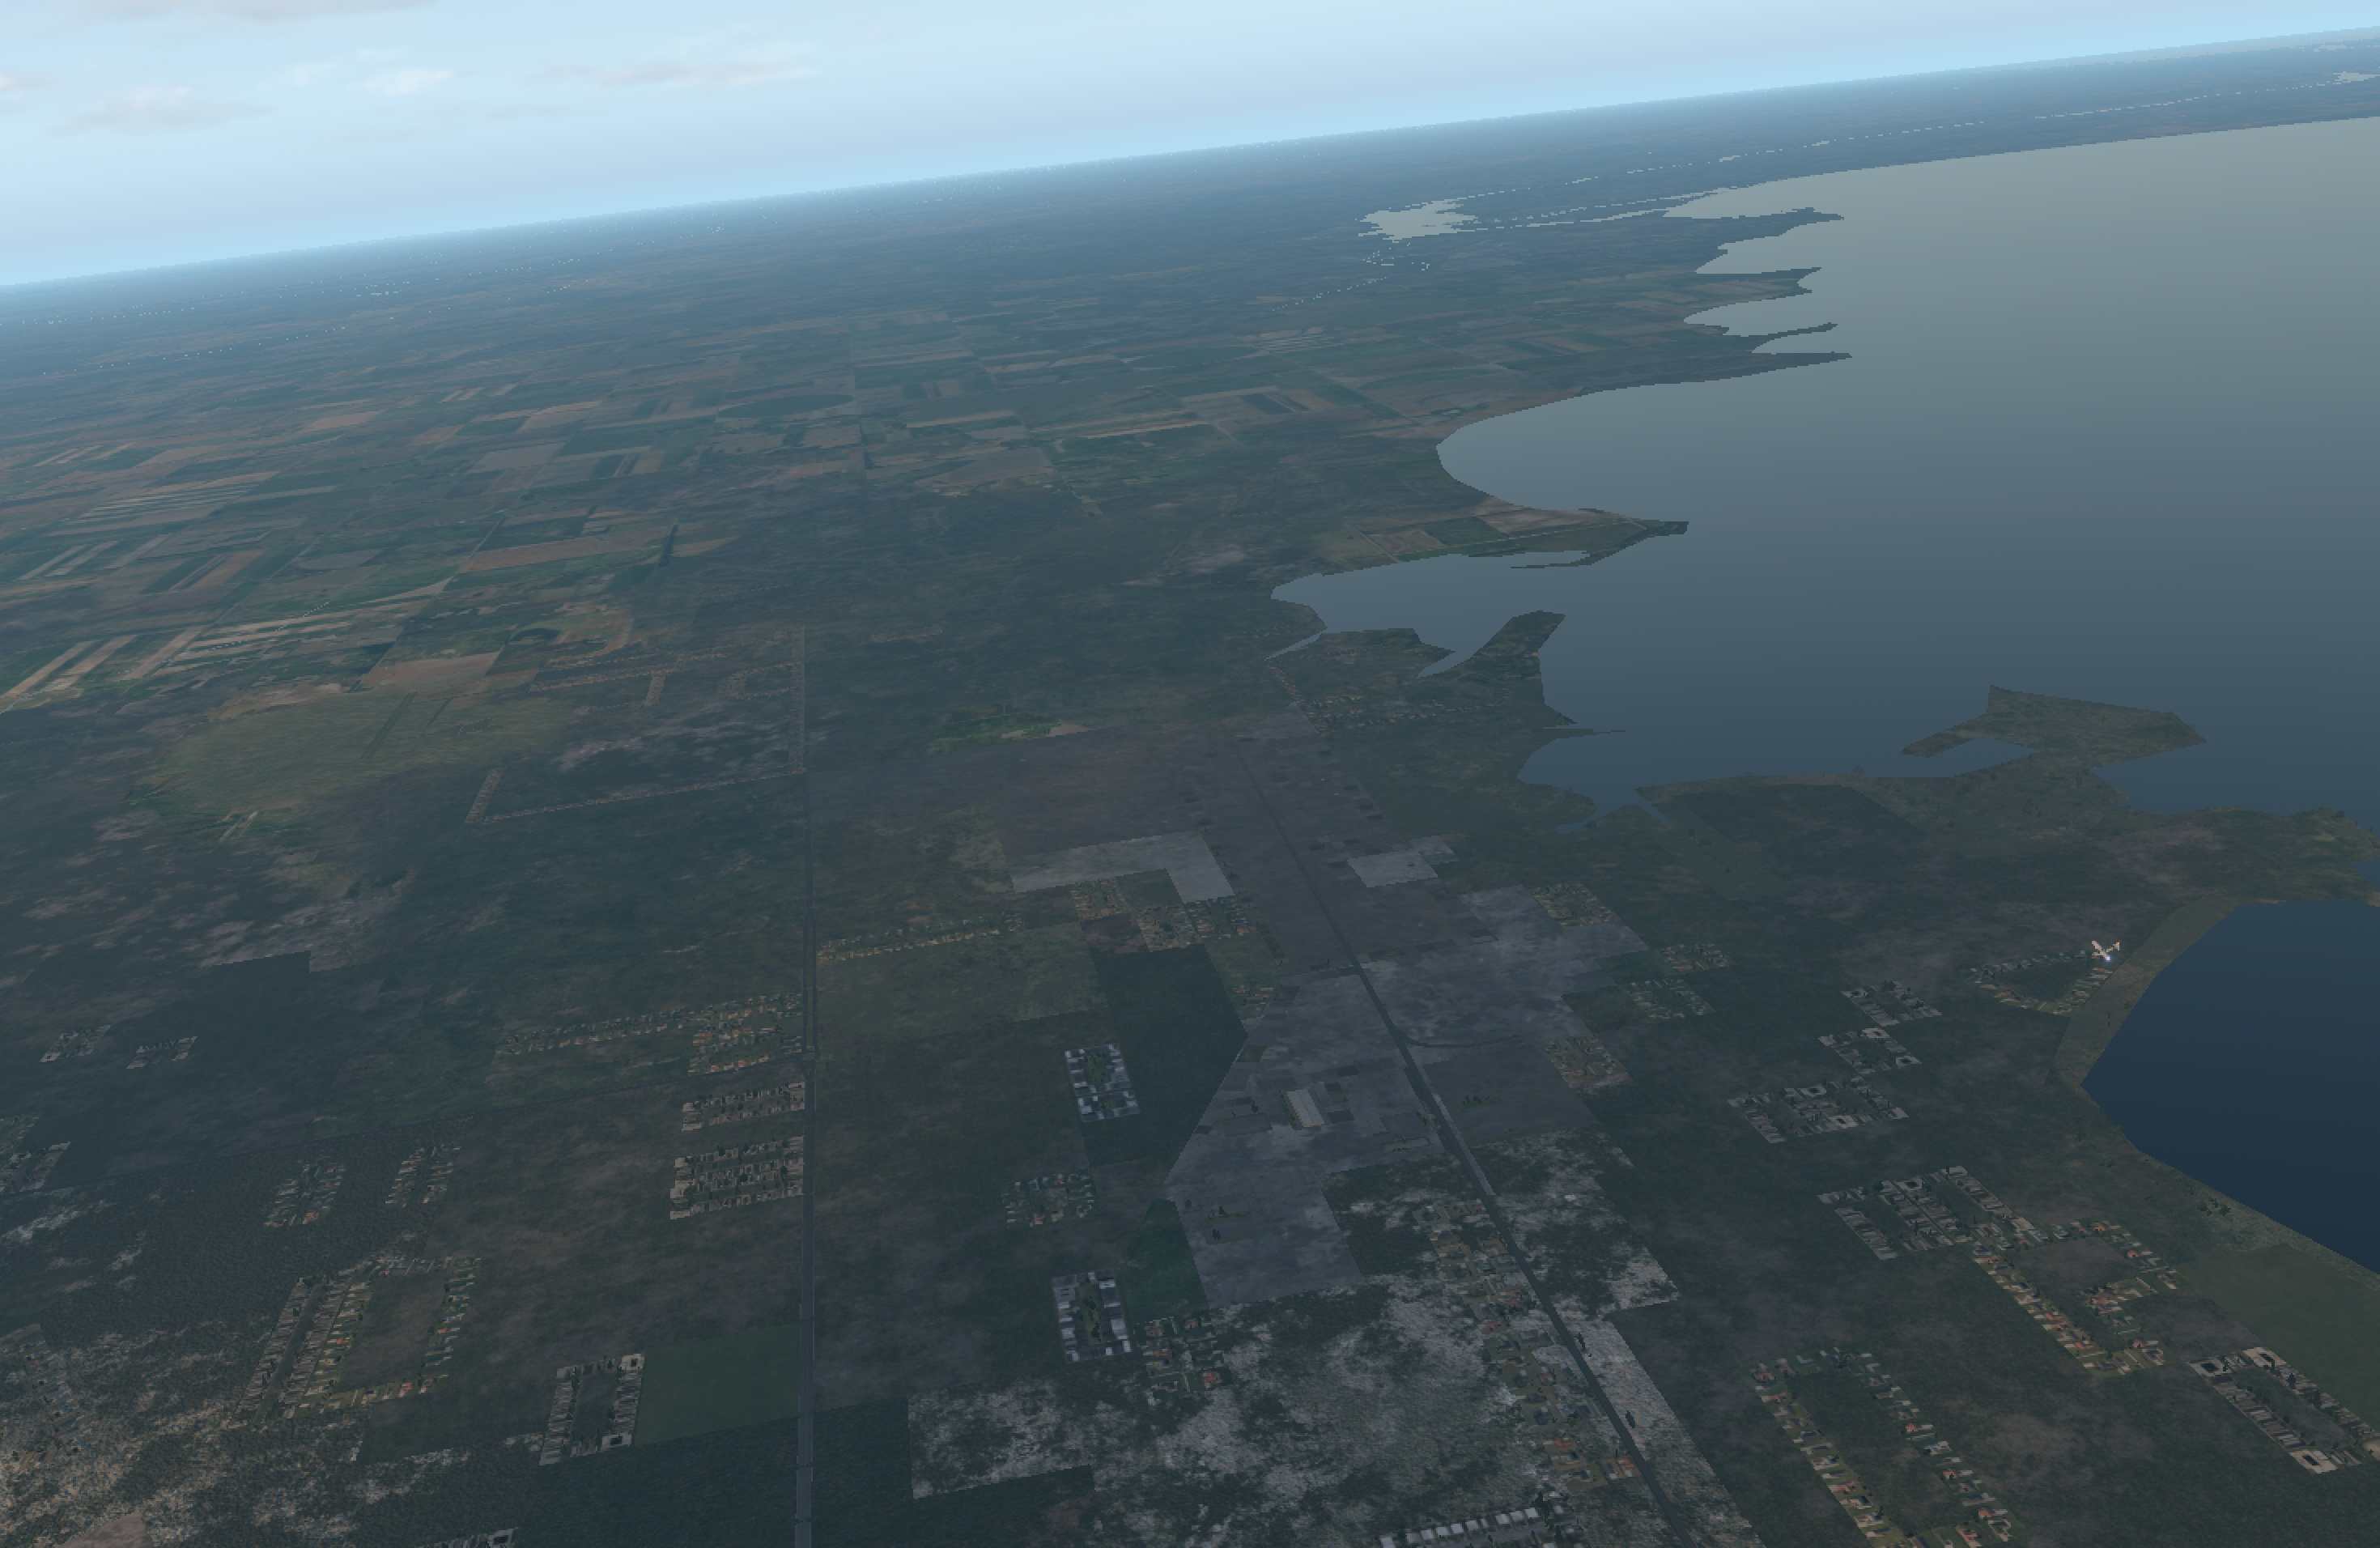aircraft: (2087, 948, 2113, 956)
